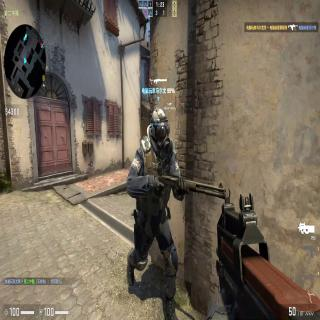CT-Body: (127, 107, 186, 317)
CT-Head: (150, 108, 171, 153)
